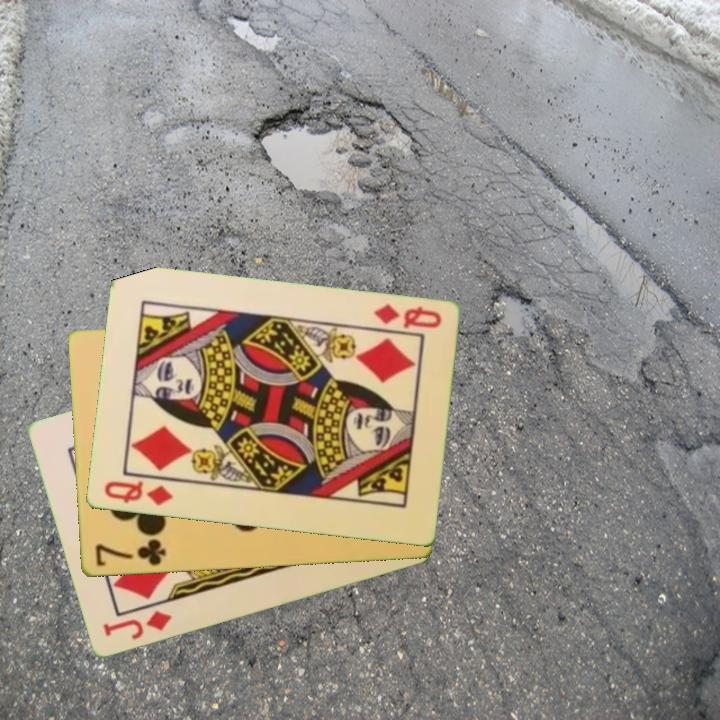7c: (91, 535, 169, 570)
Jd: (99, 607, 174, 643)
Qd: (100, 477, 176, 509), (369, 300, 444, 332)
